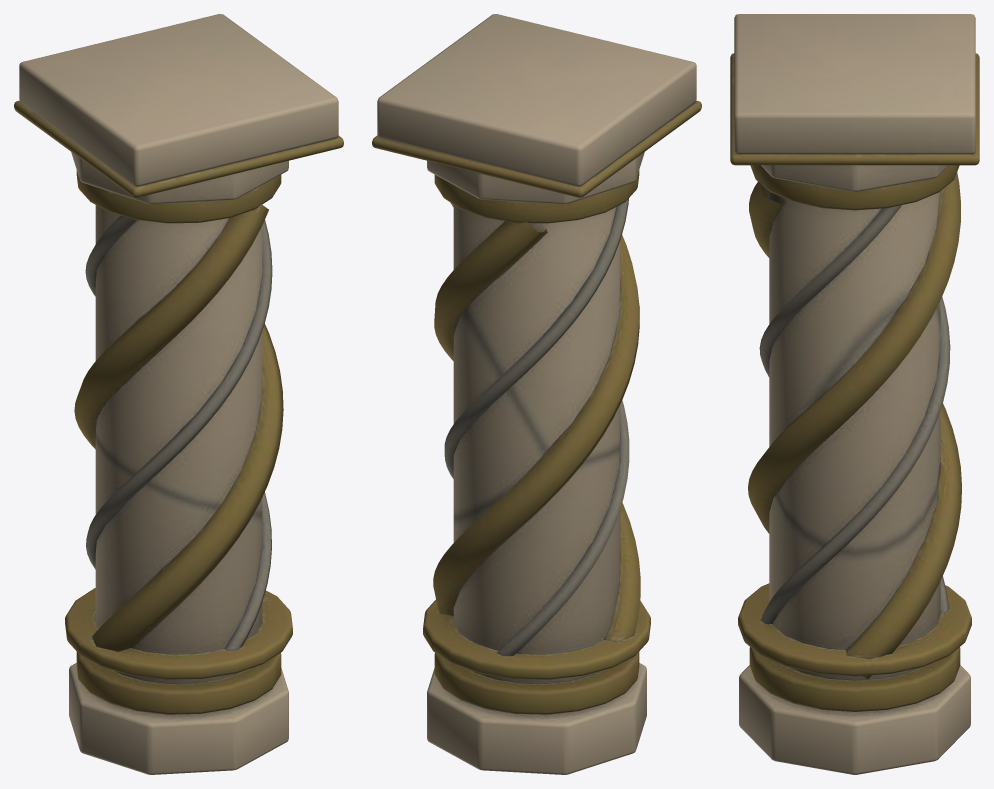
File: marble_column_spiral.glb
The picture shows the model from 3 angles, left to right: view 1: azimuth 30°, elevation 25°; view 2: azimuth 150°, elevation 25°; view 3: azimuth 270°, elevation 25°; orthographic projection. The views are drawn at different scales.
Visible parts, largest first — view 1: marble_column_spiral; view 2: marble_column_spiral; view 3: marble_column_spiral.
Boxes of the visible parts, left/top/right/bottom form: marble_column_spiral: left=14, top=14, right=343, bottom=774; marble_column_spiral: left=372, top=14, right=701, bottom=774; marble_column_spiral: left=730, top=14, right=979, bottom=774.
Bounding box in the file's own units: 0.64 × 1.88 × 0.64.
Materials: 1 (1 with a texture image).
